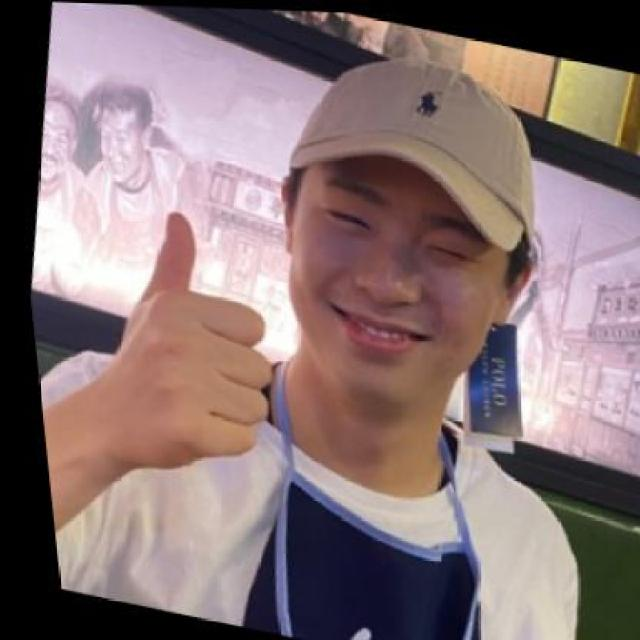hat: (261, 23, 564, 262)
